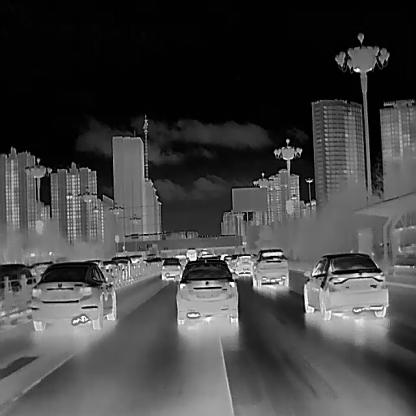car: (301, 250, 389, 320), (30, 260, 115, 330), (174, 260, 237, 324), (0, 262, 36, 322), (250, 247, 288, 288), (96, 258, 120, 284), (112, 254, 133, 280), (160, 257, 182, 280), (235, 252, 254, 274)
truck: (186, 247, 196, 260)
